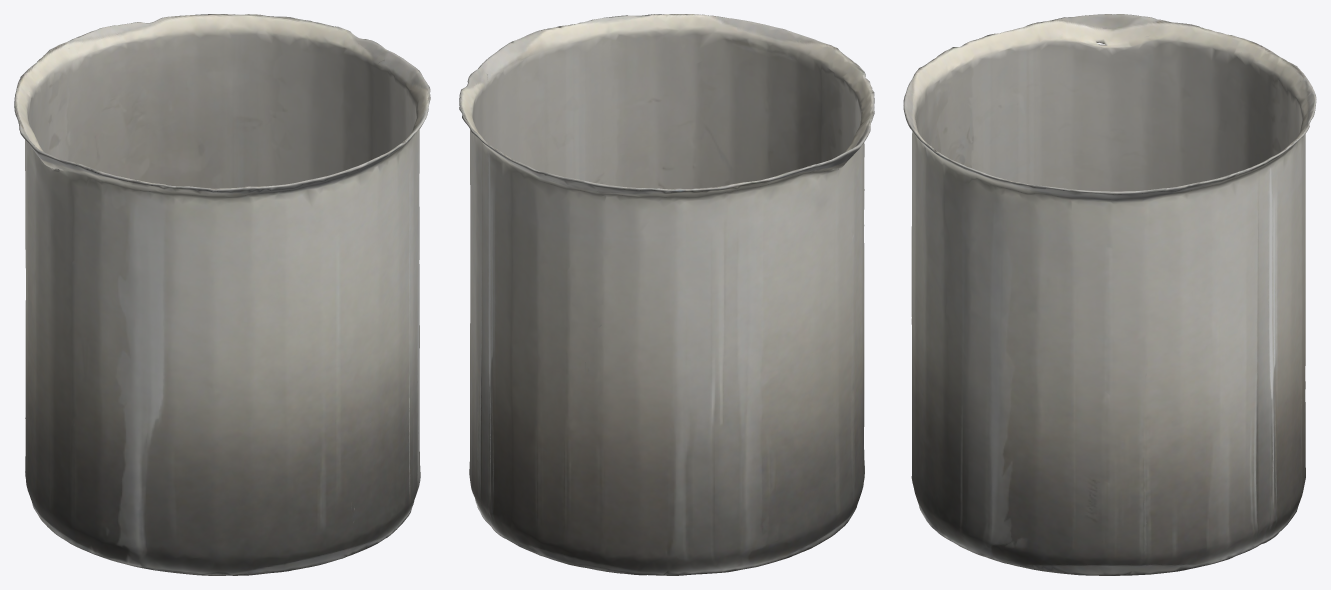
The model's file is Beaker_Reflection_1125072355.fbx.
The picture shows the model from 3 angles, left to right: view 1: azimuth 30°, elevation 25°; view 2: azimuth 150°, elevation 25°; view 3: azimuth 270°, elevation 25°; orthographic projection.
Parts seen in each view (by area): view 1: Mesh_0; view 2: Mesh_0; view 3: Mesh_0.
Boxes of the visible parts, x1,y1,x2,y2 form: Mesh_0: (14,14,430,575); Mesh_0: (459,14,874,575); Mesh_0: (903,14,1316,575).
Size of the model in its own units: 194 by 201 by 189.
Materials: 1 (1 with a texture image).
